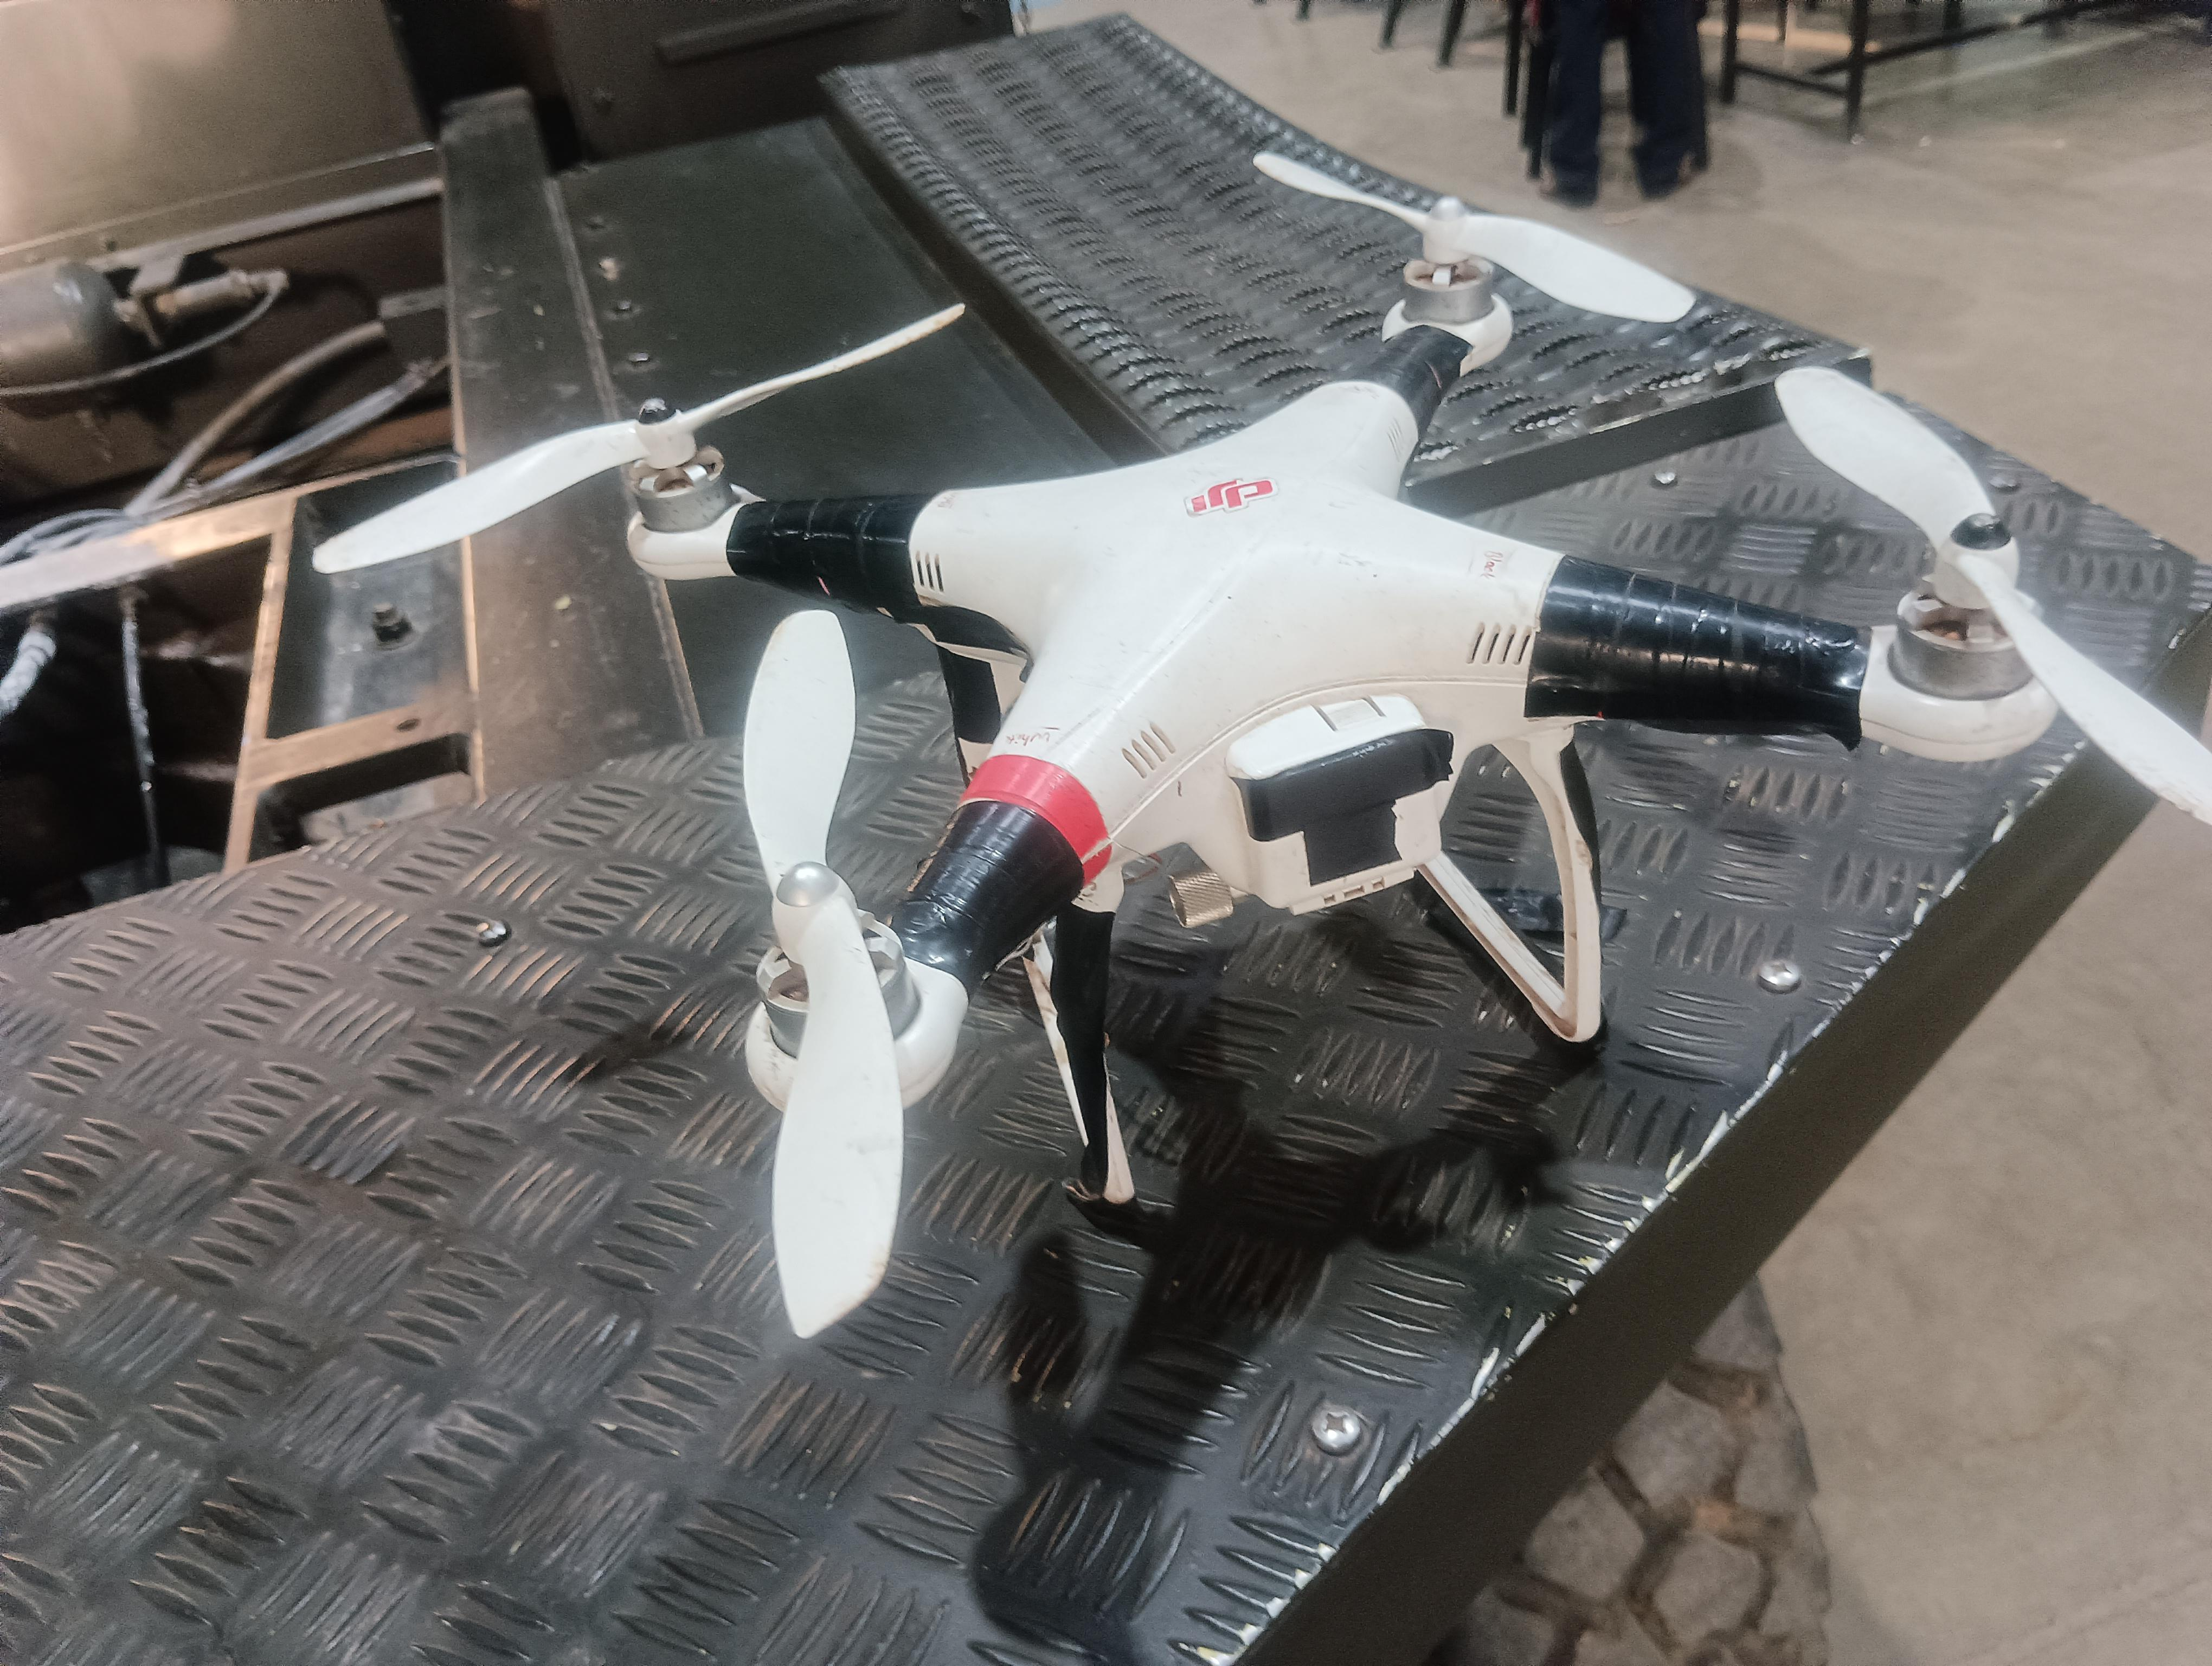drone: (201, 152, 2212, 1358)
